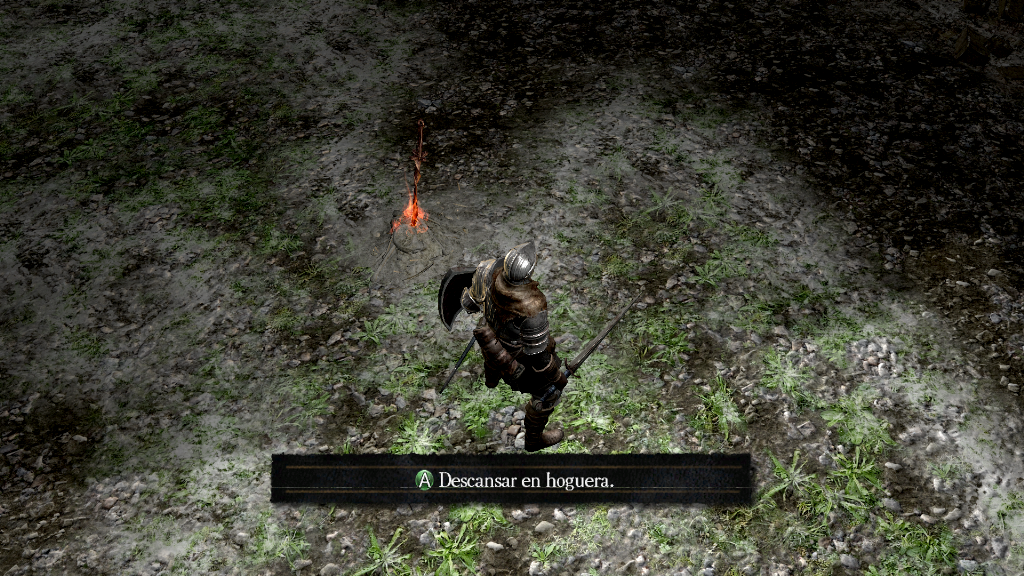bonfire: (393, 117, 437, 253)
dialogBox: (271, 453, 751, 505)
player: (436, 239, 645, 453)
